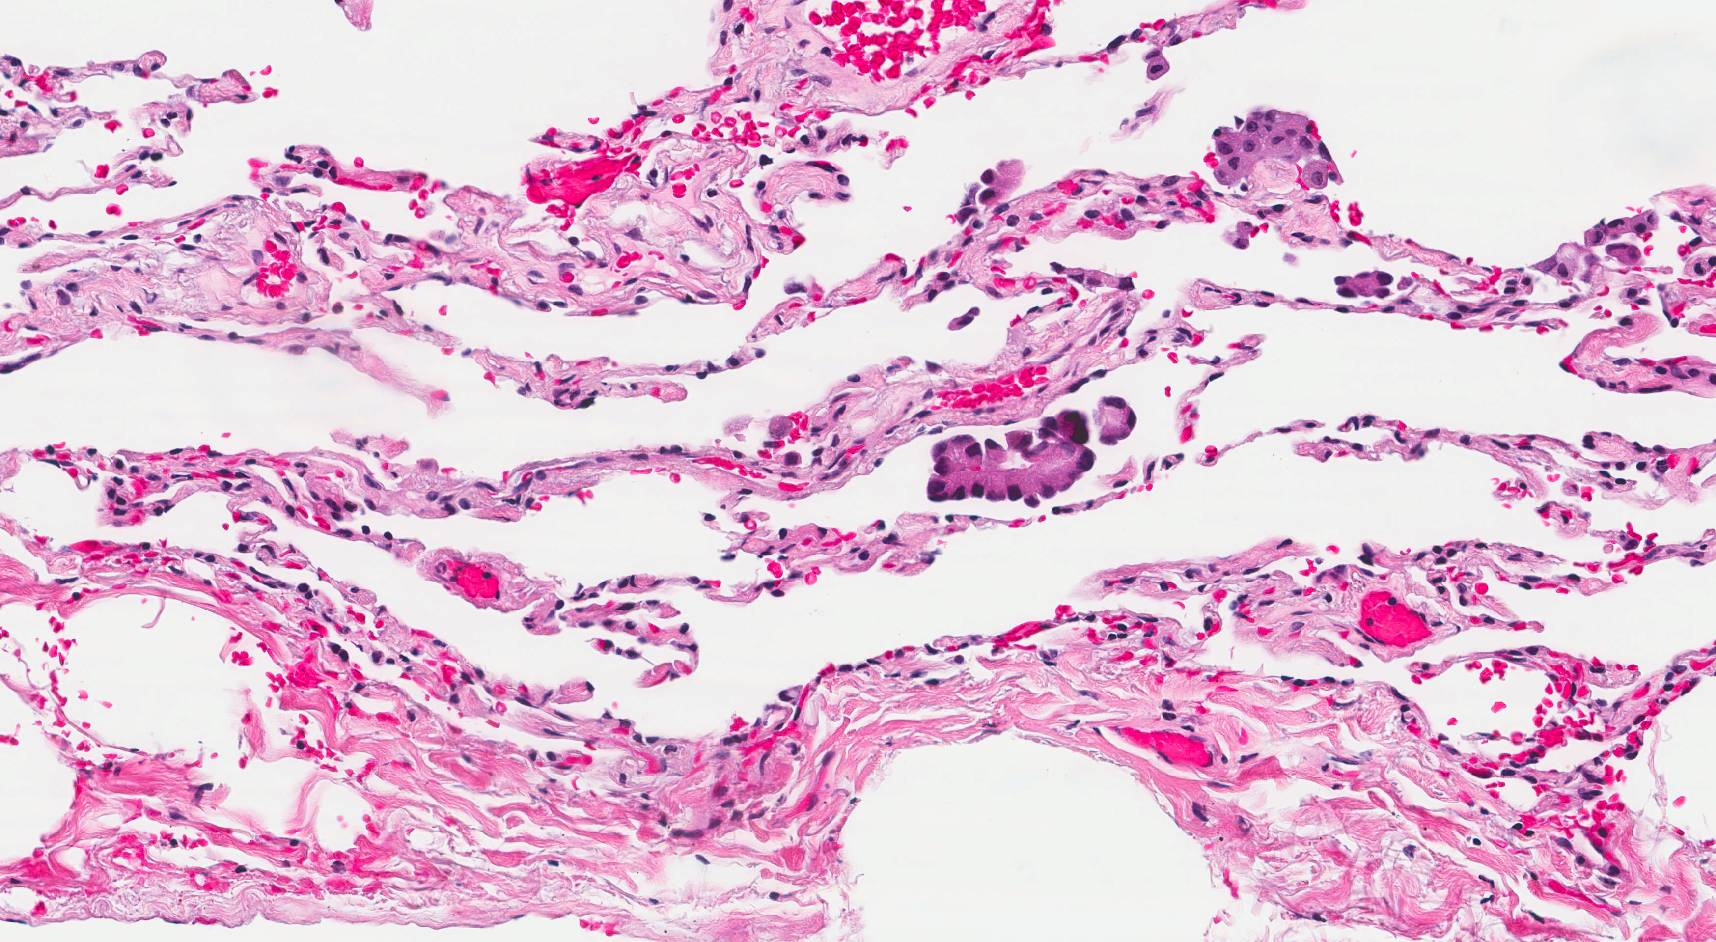stas: (927, 410, 1099, 507), (978, 154, 1029, 206), (1332, 263, 1396, 302), (1094, 395, 1140, 447)
